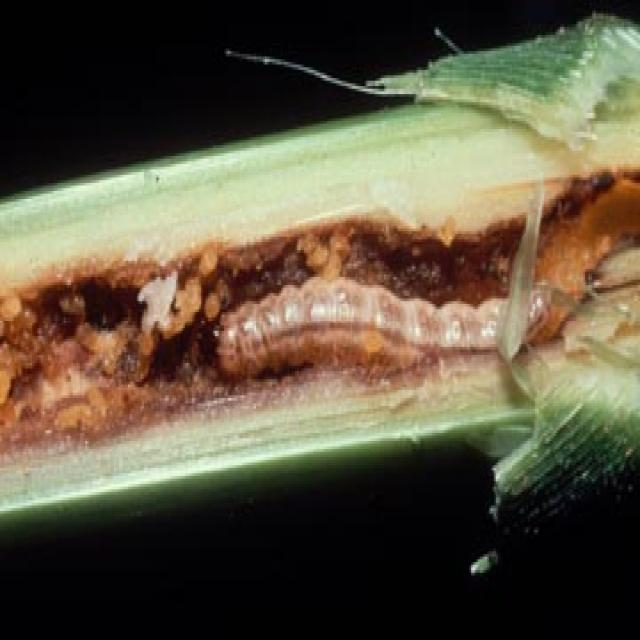cornborer-Larva-: (163, 233, 570, 418)
